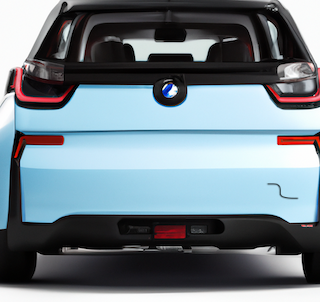scratch: (261, 177, 300, 204)
